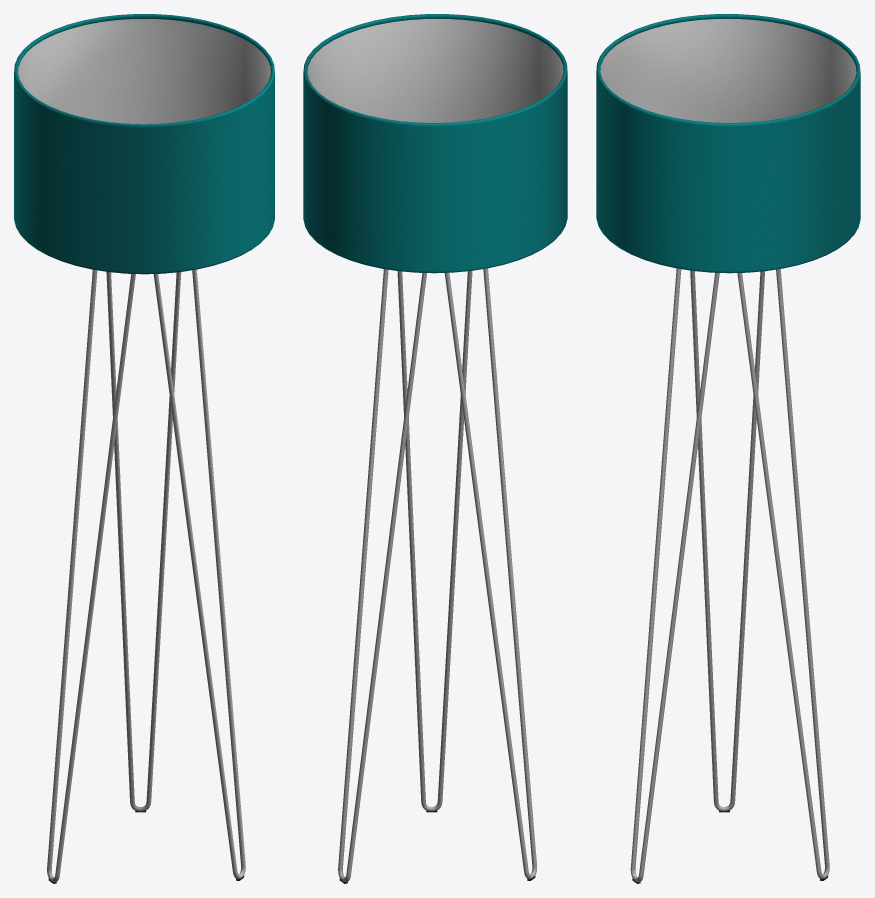
File: Grey and Teal.glb
3 renders of one model, left to right at view 1: azimuth 30°, elevation 25°; view 2: azimuth 150°, elevation 25°; view 3: azimuth 270°, elevation 25°, orthographic.
Visible parts, largest first — view 1: Erin_Large_Floor_Lamp_Grey_and_Teal_LAMP_SHADE_TEAL_0, Erin_Large_Floor_Lamp_Grey_and_Teal_LAMP_SHADE_WHITE_0, Erin_Large_Floor_Lamp_Grey_and_Teal_STEEL_GREY_0; view 2: Erin_Large_Floor_Lamp_Grey_and_Teal_LAMP_SHADE_TEAL_0, Erin_Large_Floor_Lamp_Grey_and_Teal_LAMP_SHADE_WHITE_0, Erin_Large_Floor_Lamp_Grey_and_Teal_STEEL_GREY_0; view 3: Erin_Large_Floor_Lamp_Grey_and_Teal_LAMP_SHADE_TEAL_0, Erin_Large_Floor_Lamp_Grey_and_Teal_LAMP_SHADE_WHITE_0, Erin_Large_Floor_Lamp_Grey_and_Teal_STEEL_GREY_0.
Boxes of the visible parts, left/top/right/bottom form: Erin_Large_Floor_Lamp_Grey_and_Teal_LAMP_SHADE_TEAL_0: left=14, top=14, right=274, bottom=274; Erin_Large_Floor_Lamp_Grey_and_Teal_LAMP_SHADE_WHITE_0: left=18, top=19, right=270, bottom=124; Erin_Large_Floor_Lamp_Grey_and_Teal_STEEL_GREY_0: left=47, top=269, right=245, bottom=882; Erin_Large_Floor_Lamp_Grey_and_Teal_LAMP_SHADE_TEAL_0: left=303, top=14, right=567, bottom=273; Erin_Large_Floor_Lamp_Grey_and_Teal_LAMP_SHADE_WHITE_0: left=307, top=19, right=563, bottom=122; Erin_Large_Floor_Lamp_Grey_and_Teal_STEEL_GREY_0: left=338, top=268, right=536, bottom=882; Erin_Large_Floor_Lamp_Grey_and_Teal_LAMP_SHADE_TEAL_0: left=596, top=14, right=860, bottom=273; Erin_Large_Floor_Lamp_Grey_and_Teal_LAMP_SHADE_WHITE_0: left=600, top=19, right=856, bottom=122; Erin_Large_Floor_Lamp_Grey_and_Teal_STEEL_GREY_0: left=630, top=268, right=829, bottom=882.
Size of what is drawn, in the model's own units: 47.97 by 159 by 48.37.
Materials: 8 (4 with a texture image).
